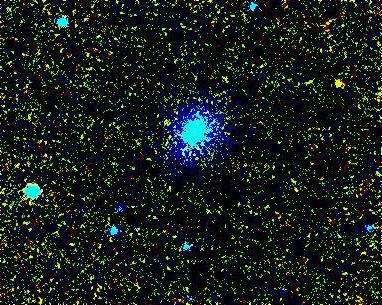star: (324, 67, 354, 97)
